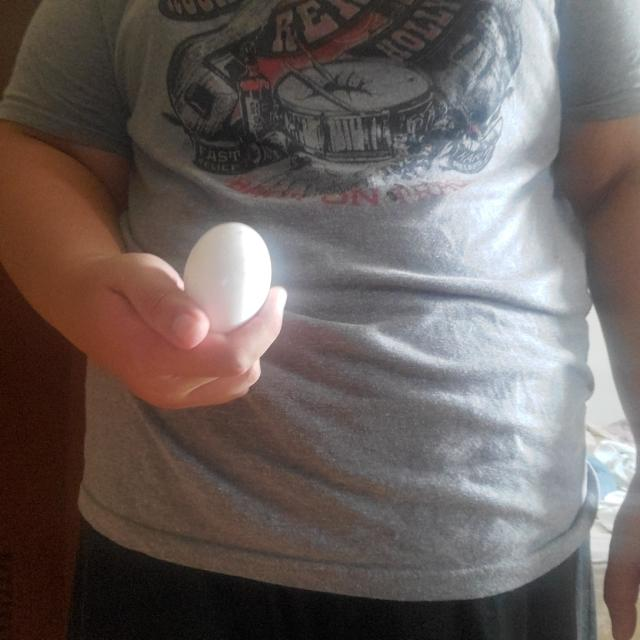egg: (184, 222, 272, 337)
